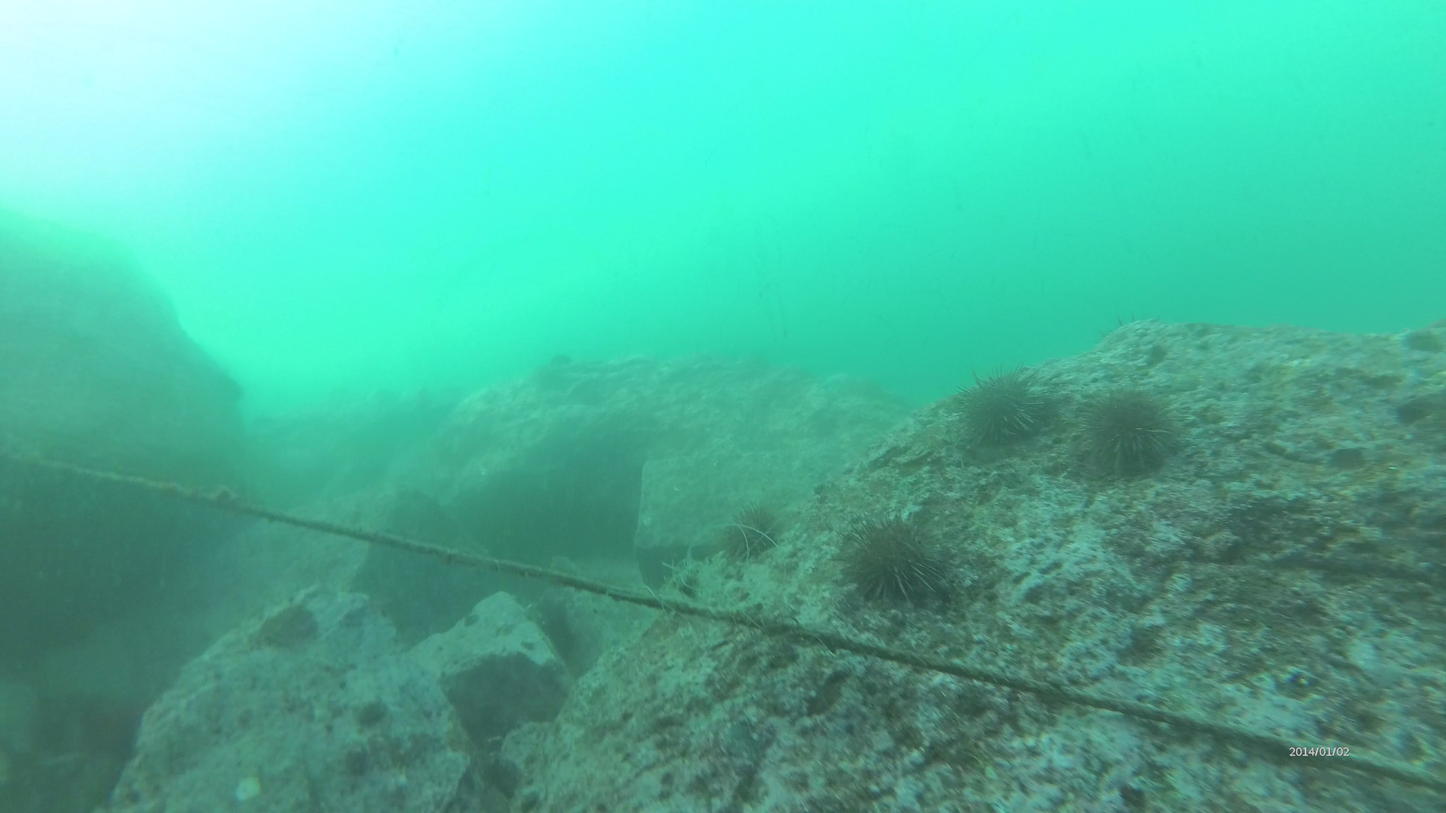starfish: (841, 510, 958, 609), (1074, 388, 1185, 482), (958, 369, 1056, 451), (725, 505, 781, 561)
